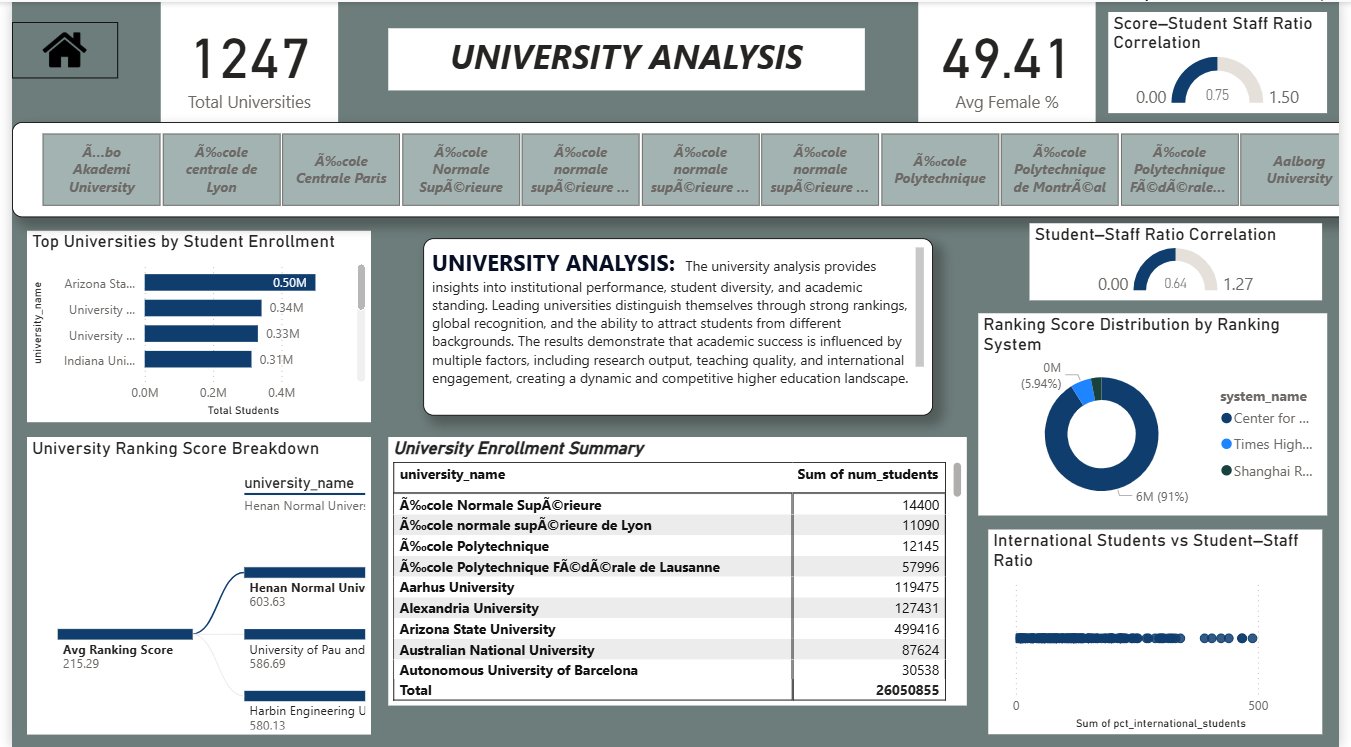

Layout of this report page (visuals, bound fields, positions):
{"tool":"powerbi","page":{"name":"University Analysis","canvas":[1280,720],"ordinal":2},"visuals":[{"type":"textbox","box":[396.9,228,492.2,171.3],"z":0},{"type":"textbox","box":[363.1,25.3,459.7,60.3],"z":1000},{"type":"card","fields":{"Values":["Table.Total Universities"]},"box":[143.6,0,171.3,115.8],"z":2000},{"type":"card","fields":{"Values":["Table.Avg Female %"]},"box":[874.7,0,171.3,115.8],"z":3000},{"type":"clusteredBarChart","title":"Top Universities by Student Enrollment","fields":{"Category":["university.university_name"],"Y":["Table.Total Students"]},"box":[14.5,220.8,331.8,184.6],"z":4000},{"type":"scatterChart","title":"International Students vs Student–Staff Ratio","fields":{"Category":["university_year.student_staff_ratio"],"X":["Sum(university_year.pct_international_students)"]},"box":[942.2,509.1,322.1,197.9],"z":5000},{"type":"pivotTable","title":"University Enrollment Summary","fields":{"Rows":["university.university_name"],"Values":["Sum(university_year.num_students)"]},"box":[363.1,419.8,558.6,259.4],"z":6000},{"type":"slicer","title":"Select University","fields":{"Values":["university.university_name"]},"box":[0,115.8,2482.9,91.7],"z":7000},{"type":"donutChart","title":"Ranking Score Distribution by Ranking System","fields":{"Category":["ranking_system.system_name"],"Y":["Sum(university_ranking_year.score)"]},"box":[932.6,300.4,336.6,195.4],"z":8000},{"type":"gauge","title":"Student–Staff Ratio Correlation","fields":{"Y":["country.score and student_staff_ratio correlation for year"]},"box":[982,213.5,282.3,74.8],"z":9000},{"type":"decompositionTreeVisual","title":"University Ranking Score Breakdown","fields":{"Analyze":["Table.Avg Ranking Score"],"ExplainBy":["university.university_name","country.country_name","university_ranking_year.year"]},"box":[14.5,419.8,331.8,287.1],"z":10000},{"type":"gauge","title":"Score–Student Staff Ratio Correlation","fields":{"Y":["country.Count of ranking_criteria_id and student_staff_ratio correlation for year"]},"box":[1058,9.7,211.1,97.7],"z":11000},{"type":"image","box":[0,19.3,102.5,54.3],"z":12000}]}

Visuals, with their boxes in screenshot pixels (x1, y1, x2, y2), scaled from the page's 1280x720 canvas onto the 1351x747 screenshot:
textbox: locate(419, 237, 938, 414)
textbox: locate(383, 26, 868, 89)
card - Table.Total Universities: locate(152, 0, 332, 120)
card - Table.Avg Female %: locate(923, 0, 1104, 120)
"Top Universities by Student Enrollment" clusteredBarChart: locate(15, 229, 366, 421)
"International Students vs Student–Staff Ratio" scatterChart: locate(994, 528, 1334, 734)
"University Enrollment Summary" pivotTable: locate(383, 436, 973, 705)
"Select University" slicer: locate(0, 120, 1350, 215)
"Ranking Score Distribution by Ranking System" donutChart: locate(984, 312, 1340, 514)
"Student–Staff Ratio Correlation" gauge: locate(1036, 222, 1334, 299)
"University Ranking Score Breakdown" decompositionTreeVisual: locate(15, 436, 366, 733)
"Score–Student Staff Ratio Correlation" gauge: locate(1117, 10, 1339, 111)
image: locate(0, 20, 108, 76)
